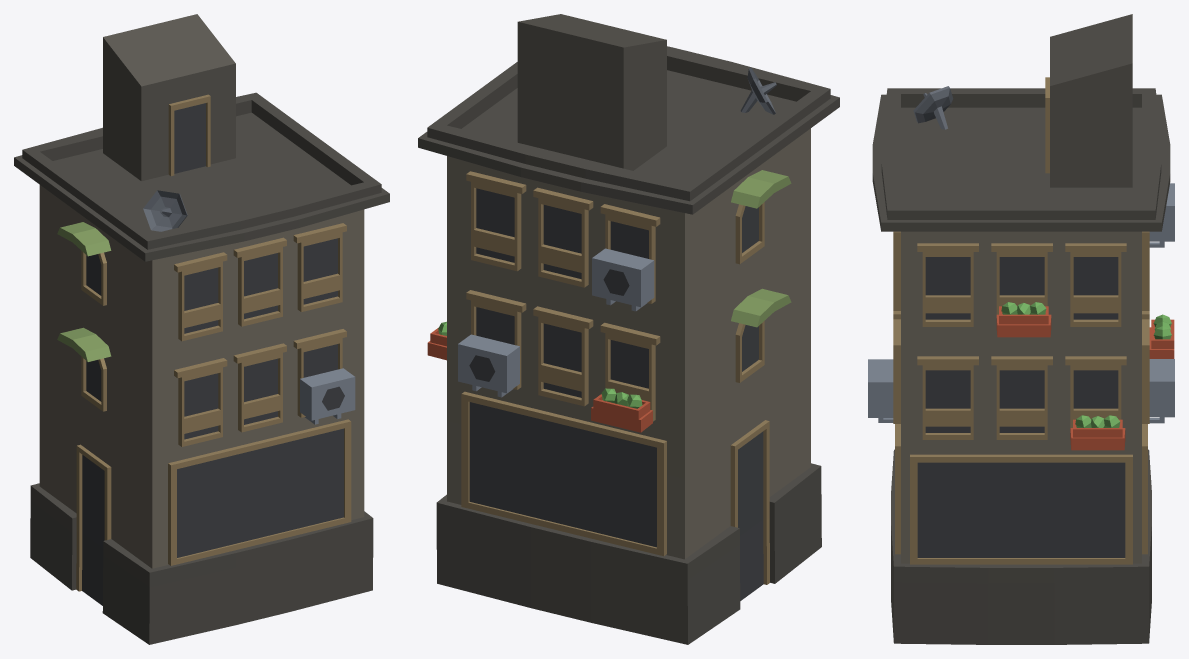
Rendered from Building_House_05.fbx.
3 views of the same model, side by side, from view 1: azimuth 30°, elevation 25°; view 2: azimuth 150°, elevation 25°; view 3: azimuth 270°, elevation 25° (orthographic). The views are drawn at different scales.
Parts seen in each view (by area): view 1: Building_House_05; view 2: Building_House_05; view 3: Building_House_05.
Part boxes in pixels (left/top/right/bottom): Building_House_05: left=14, top=14, right=389, bottom=644; Building_House_05: left=418, top=14, right=839, bottom=644; Building_House_05: left=868, top=14, right=1174, bottom=644.
Bounding box in the file's own units: 782 × 1463 × 744.
